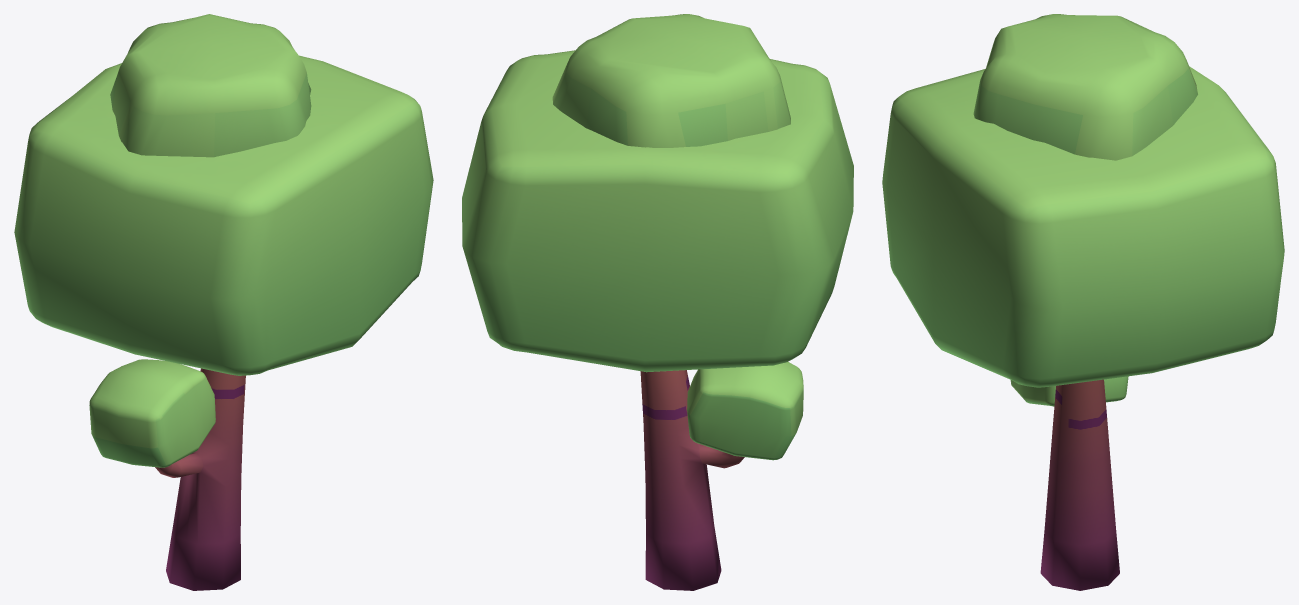
The model's file is SM_Props_Tree.fbx.
3 views of the same model, side by side, from view 1: azimuth 30°, elevation 25°; view 2: azimuth 150°, elevation 25°; view 3: azimuth 270°, elevation 25° (orthographic). The views are drawn at different scales.
Visible parts, largest first — view 1: Pohon; view 2: Pohon; view 3: Pohon.
Boxes of the visible parts, <box> form: Pohon: <box>14,14,433,590</box>; Pohon: <box>462,14,853,590</box>; Pohon: <box>882,14,1284,590</box>.
Bounding box in the file's own units: 291 × 394 × 265.
Materials: 1 (1 with a texture image).
